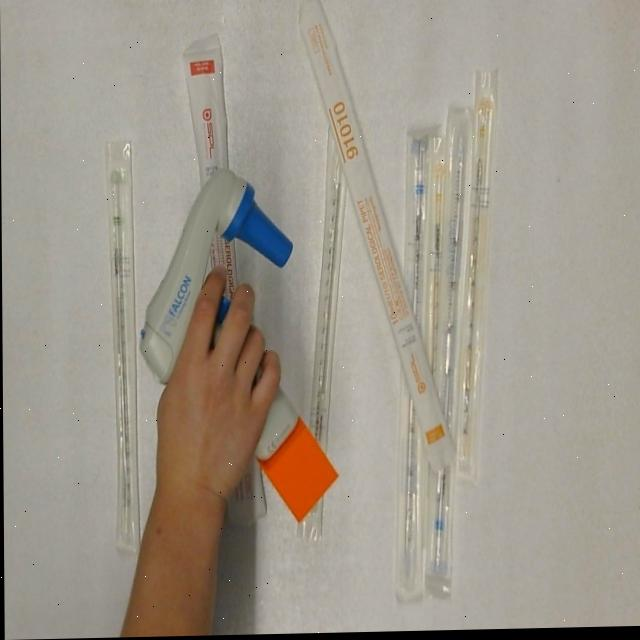Pipette Controller: (136, 164, 338, 529)
Serelogical Pipet 1 mL: (449, 70, 506, 486), (418, 137, 457, 389)
Serelogical Pipet 10 mL: (280, 0, 460, 481)
Serelogical Pipet 2 mL: (288, 120, 406, 544), (107, 139, 143, 558)
Serelogical Pipet 25 mL: (182, 31, 268, 531)
Serelogical Pipet 5 mL: (421, 105, 479, 585), (390, 121, 439, 604)
